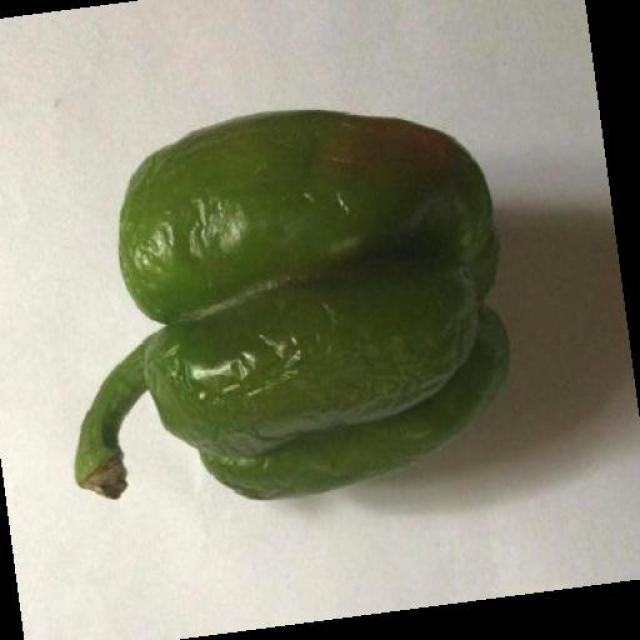Stale_Capsicum: (96, 107, 538, 486)
